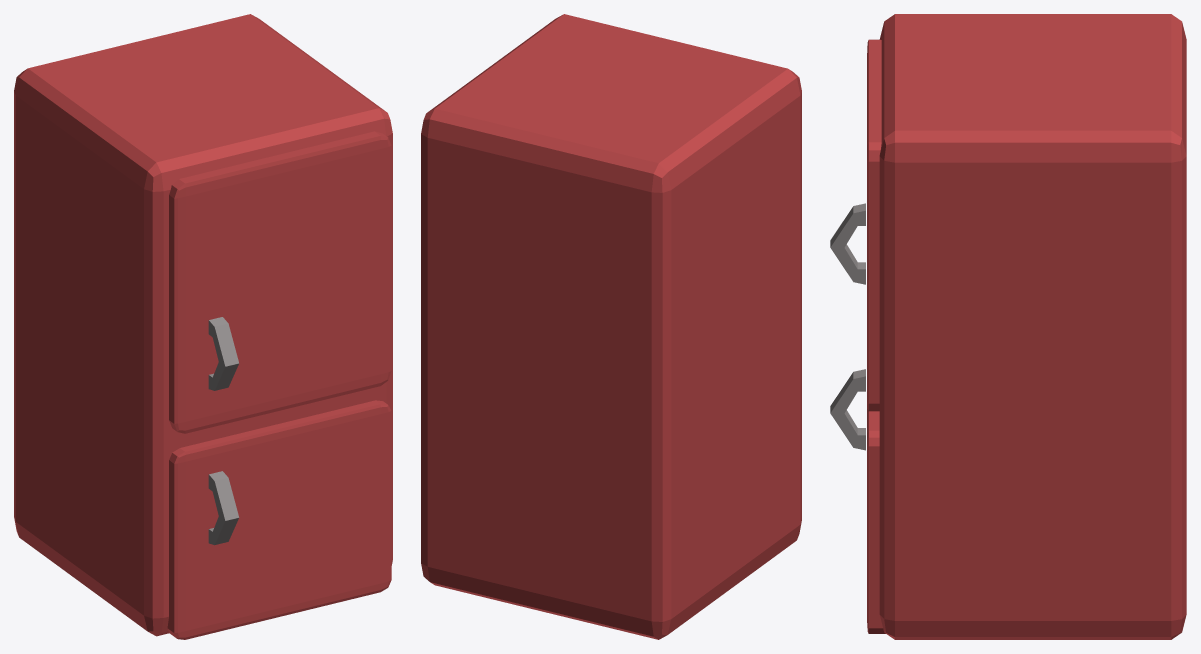
File: fridge_asset.fbx
The picture shows the model from 3 angles, left to right: view 1: azimuth 30°, elevation 25°; view 2: azimuth 150°, elevation 25°; view 3: azimuth 270°, elevation 25°; orthographic projection. The views are drawn at different scales.
Parts seen in each view (by area): view 1: Cube.214; view 2: Cube.214; view 3: Cube.214.
Part boxes in pixels (bbox=[...]): Cube.214: bbox=[14, 14, 392, 639]; Cube.214: bbox=[421, 14, 801, 639]; Cube.214: bbox=[830, 14, 1186, 639].
Bounding box in the file's own units: 97.97 × 179 × 114.
Materials: 2 (2 with a texture image).
